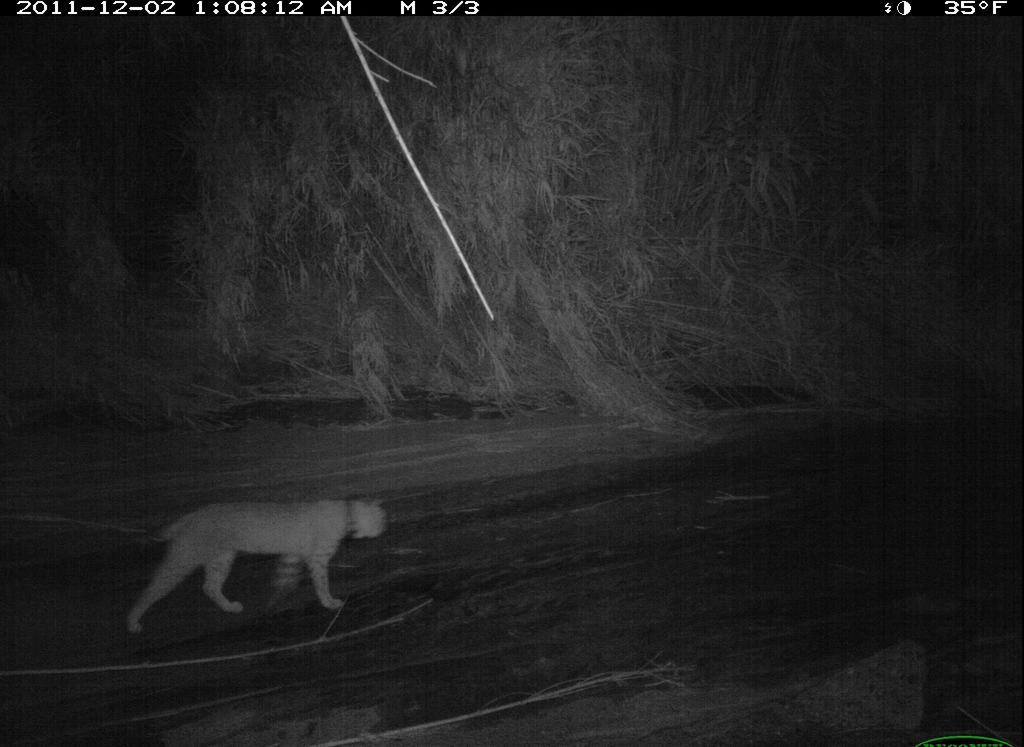bobcat: (117, 489, 399, 639)
